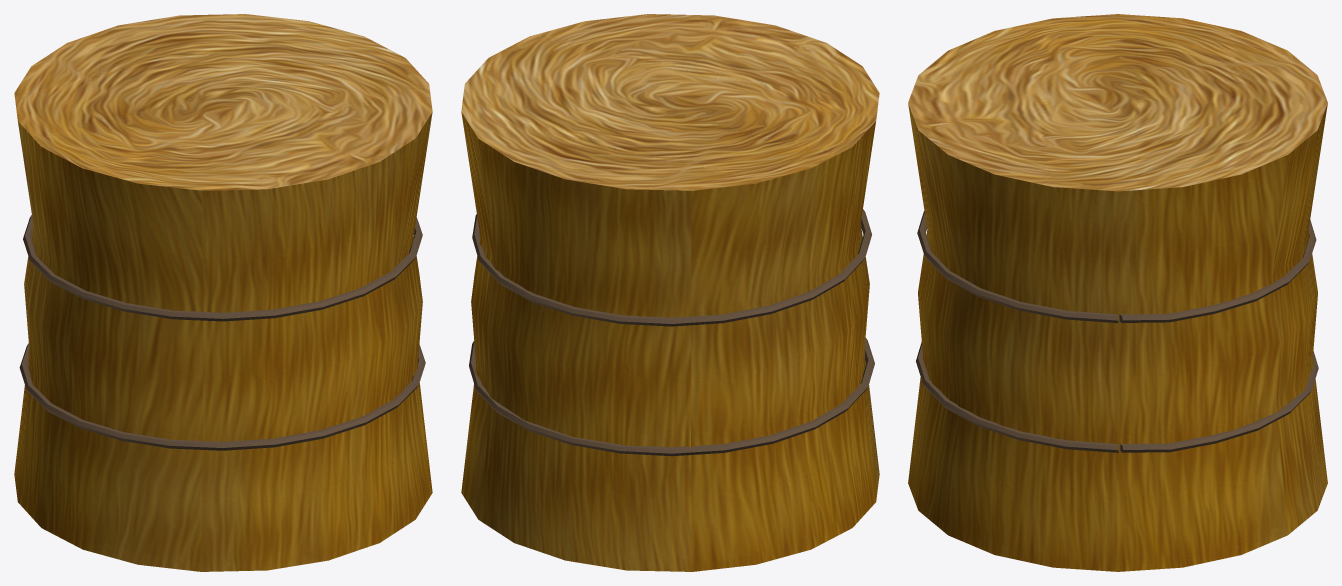
The model's file is seno22.fbx.
The picture shows the model from 3 angles, left to right: view 1: azimuth 30°, elevation 25°; view 2: azimuth 150°, elevation 25°; view 3: azimuth 270°, elevation 25°; orthographic projection.
Parts seen in each view (by area): view 1: pCylinder2.001; view 2: pCylinder2.001; view 3: pCylinder2.001.
Part boxes in pixels (x1,y1,x2,y2): pCylinder2.001: [14, 14, 432, 571]; pCylinder2.001: [461, 14, 879, 571]; pCylinder2.001: [908, 14, 1327, 571].
Bounding box in the file's own units: 2 × 2 × 2.
